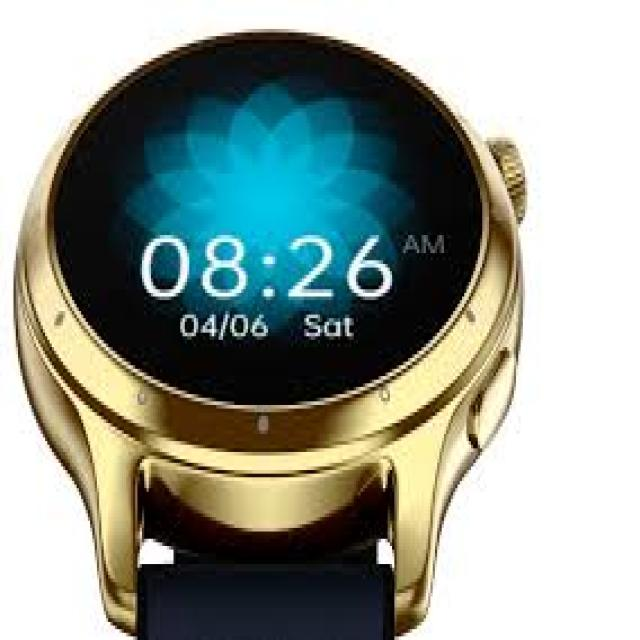objects: (10, 28, 531, 636), (99, 95, 103, 96)
